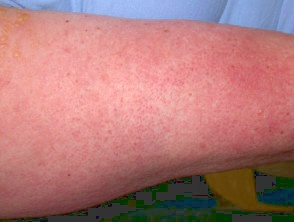SJS-TEN: (0, 5, 41, 78)
